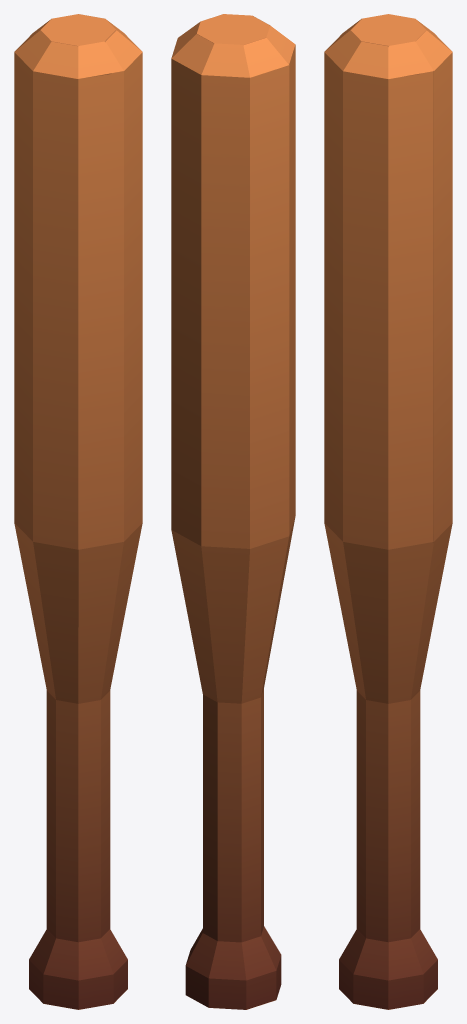
The model's file is Baseball Bat.glb.
3 views of the same model, side by side, from view 1: azimuth 90°, elevation 25°; view 2: azimuth 150°, elevation 25°; view 3: azimuth 270°, elevation 25° (orthographic).
Parts seen in each view (by area): view 1: Cylinder; view 2: Cylinder; view 3: Cylinder.
Boxes of the visible parts, <box> form: Cylinder: <box>14,14,142,1009</box>; Cylinder: <box>171,14,295,1009</box>; Cylinder: <box>324,14,452,1009</box>.
Bounding box in the file's own units: 1.21 × 10 × 1.21.
1 material, 1 textured.
